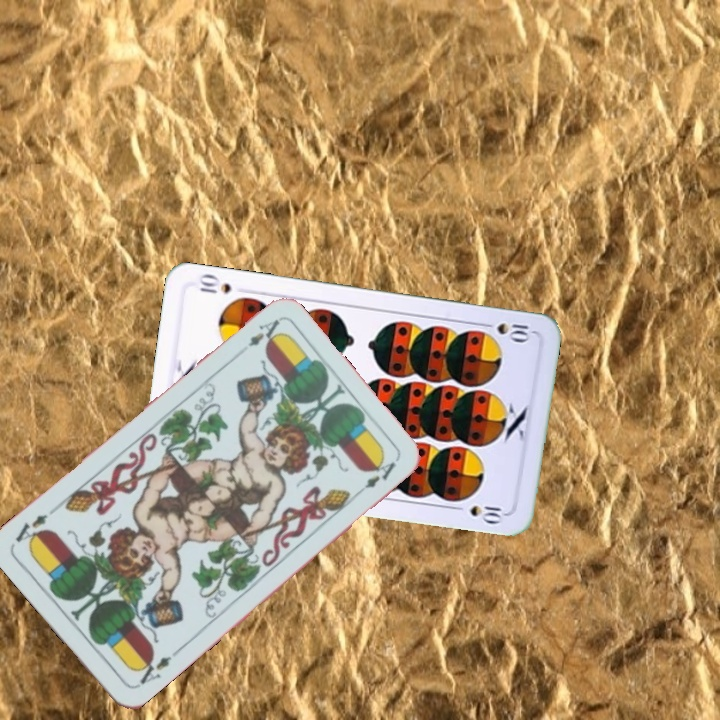EA: (131, 646, 181, 691), (243, 315, 283, 350)
S10: (477, 318, 536, 343)
